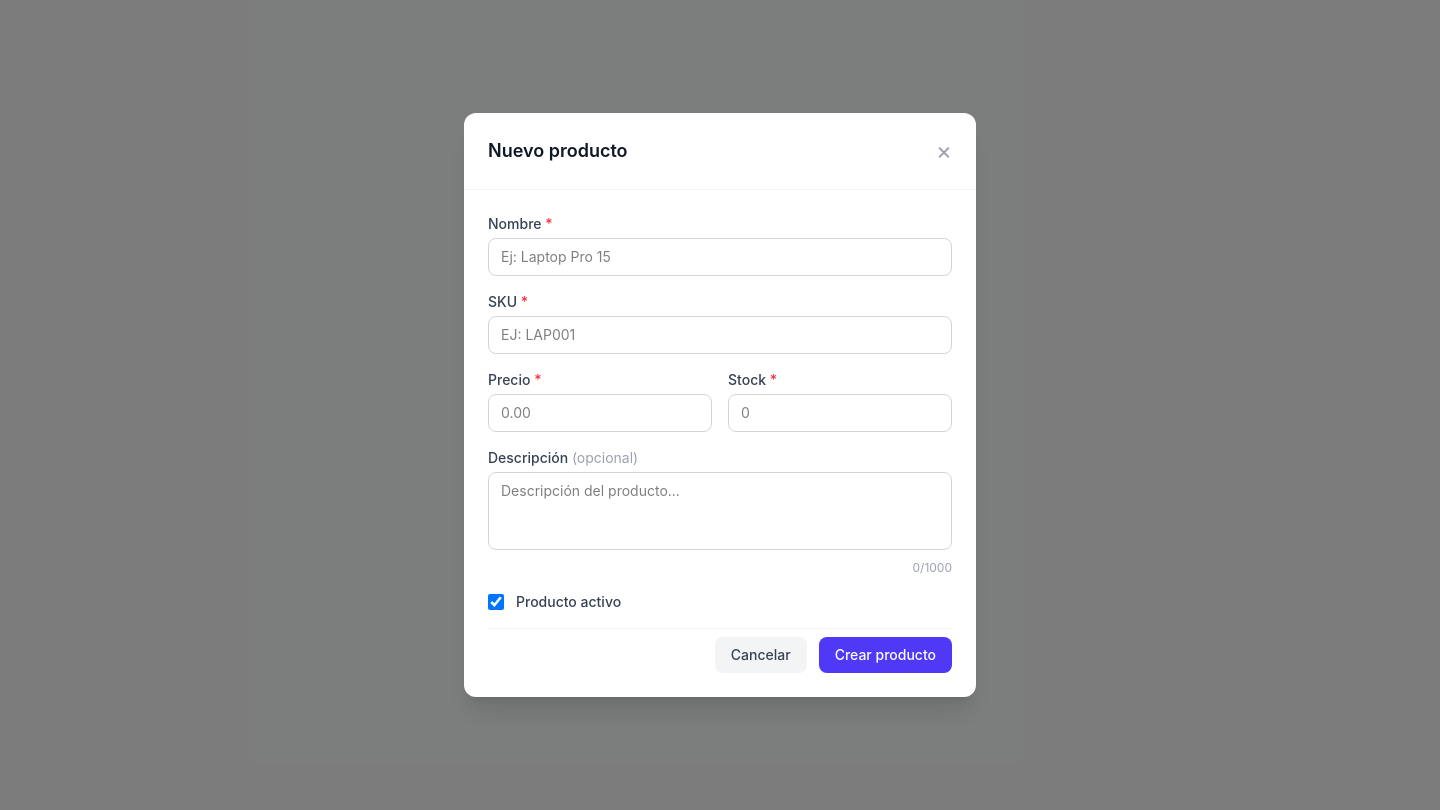
Scenario: ProductForm › validation › shows error when name is too short
This screenshot has width=1440, height=810.
Type "AB" into the field with placeholder "Ej: Laptop Pro 15" at (720, 257), box [488,238,952,276]
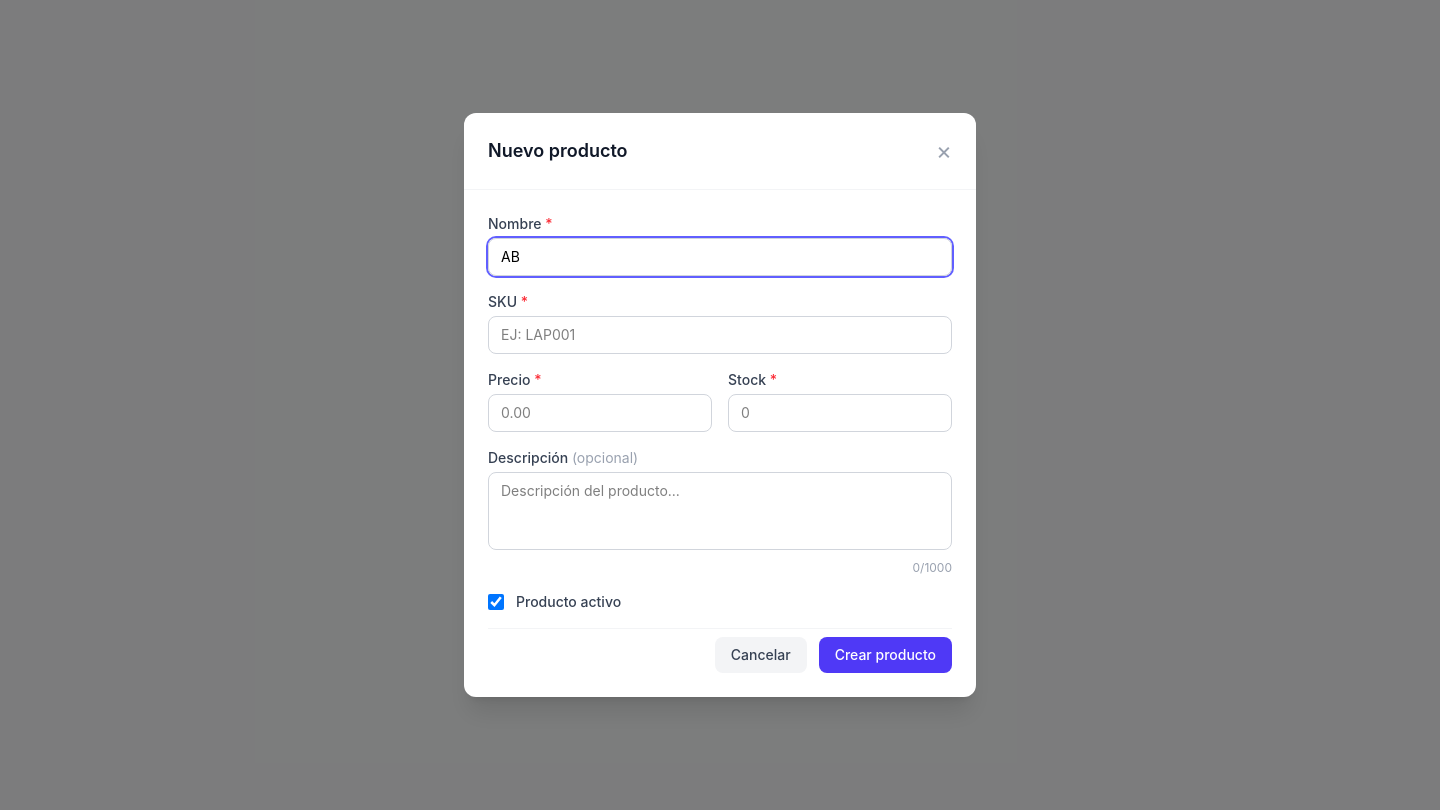
Click the button "Crear producto" at (885, 655), box [819,637,952,673]
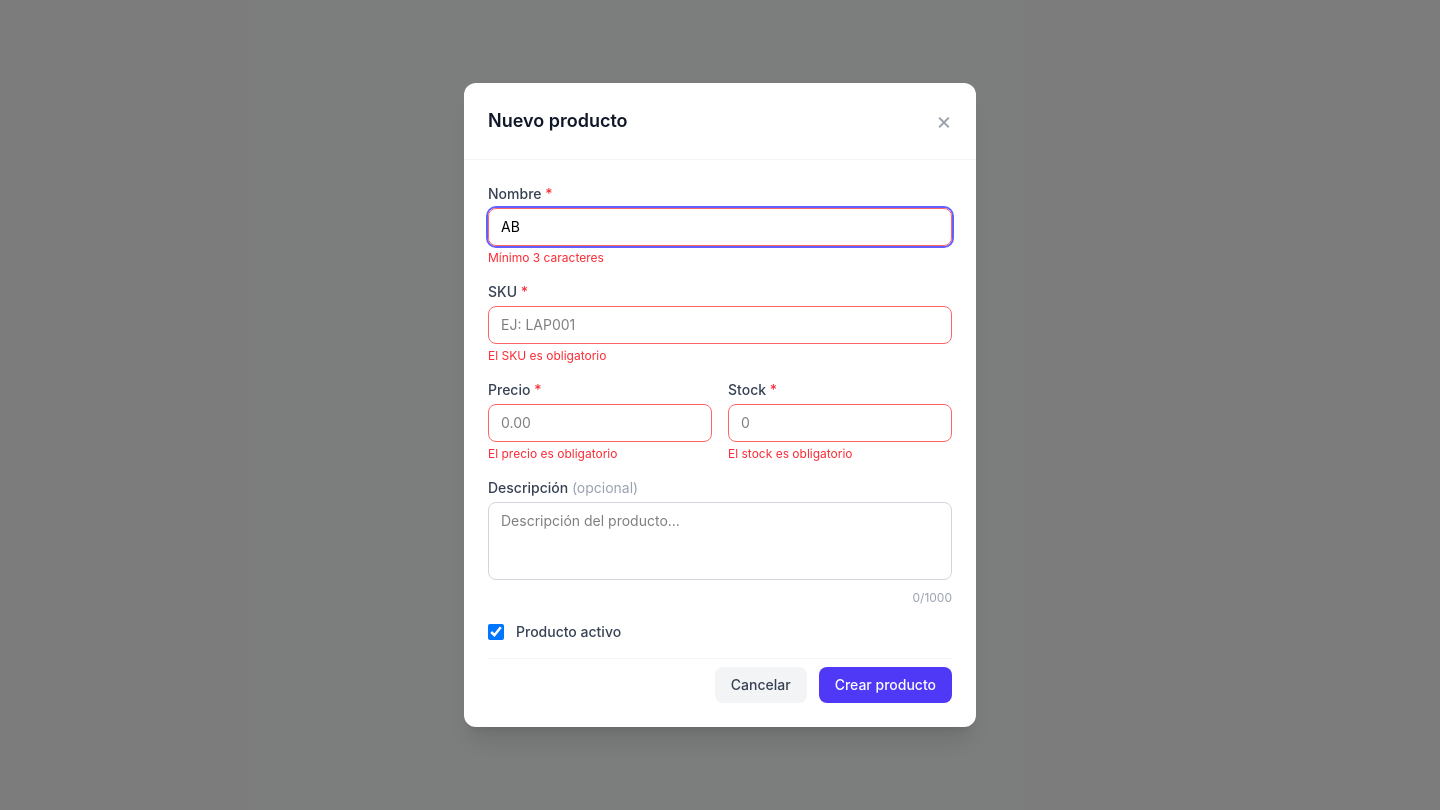
Expected: the text "Mínimo 3 caracteres" is shown, [488,250,604,265]
